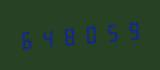eight: (60, 21, 80, 49)
five: (102, 18, 122, 46)
four: (38, 23, 58, 51)
nine: (123, 16, 143, 44)
six: (17, 25, 37, 53)
zero: (81, 19, 101, 48)
